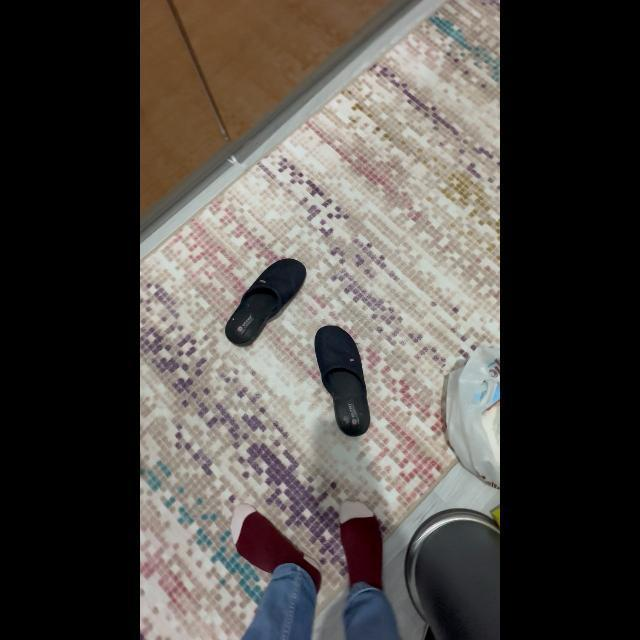slipper: (308, 320, 379, 442), (224, 250, 308, 352)
